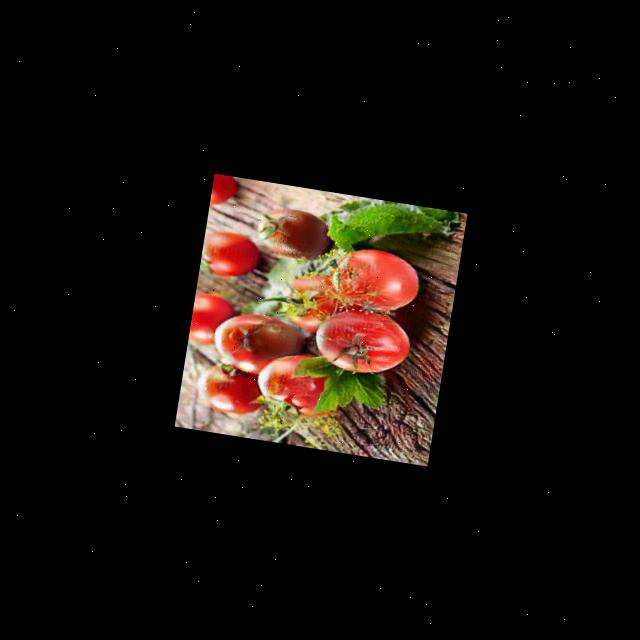tomato: (312, 305, 412, 381), (254, 350, 341, 426), (251, 205, 332, 265)
